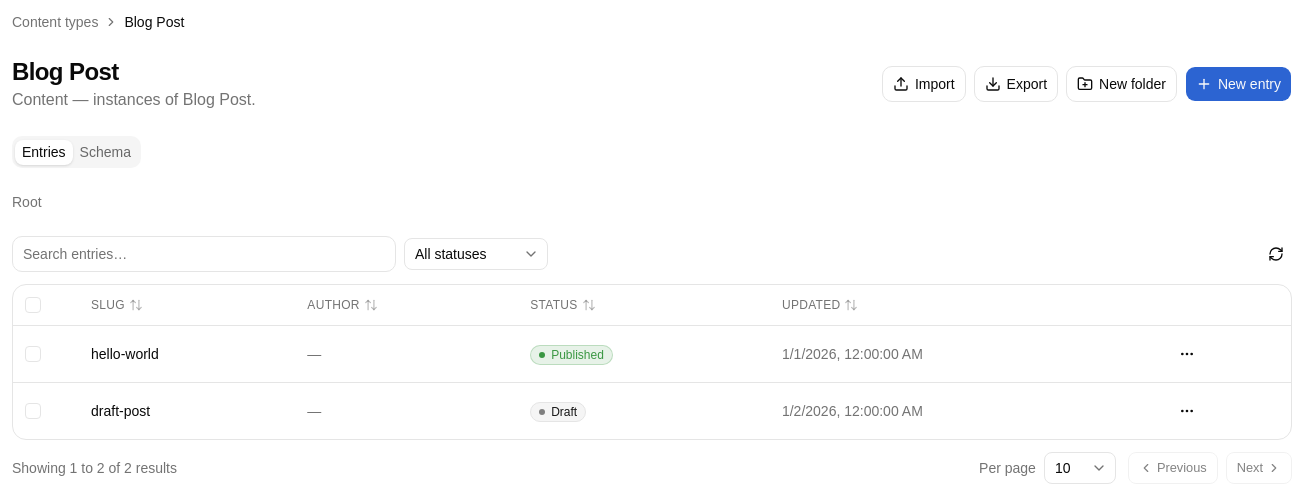
EntriesPage › filters the list by status
Check: the link "hello-world" is shown, box [91, 346, 159, 362]
Check: the link "draft-post" is shown, box [91, 402, 150, 418]
Step 1. Click the dropdown named "Filter by status" → coordinates (476, 254), box [404, 238, 548, 270]
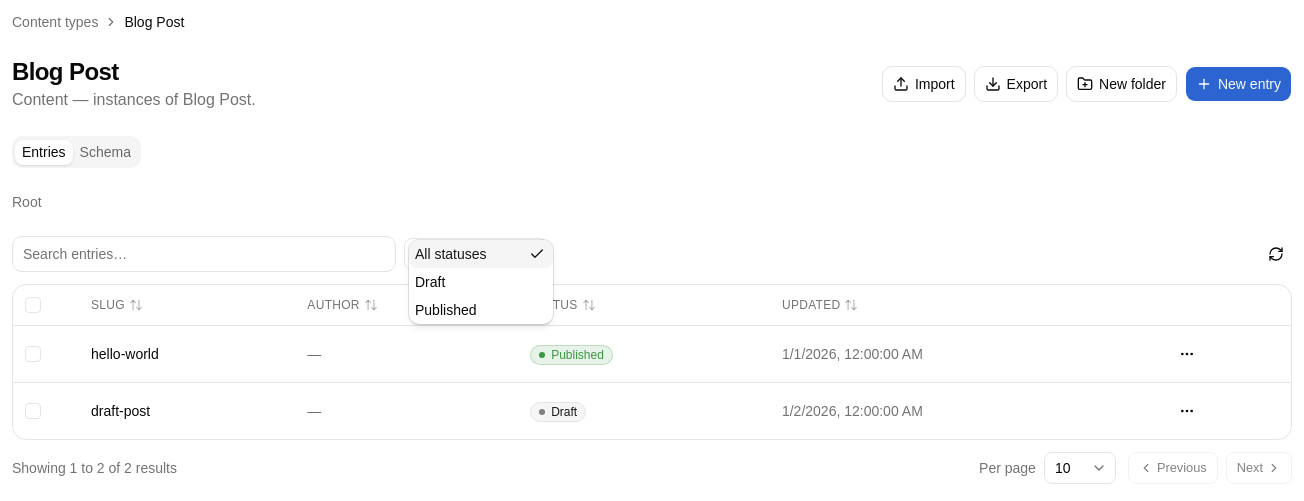
Step 2. Click the option "Published" → coordinates (446, 310), box [415, 302, 476, 318]
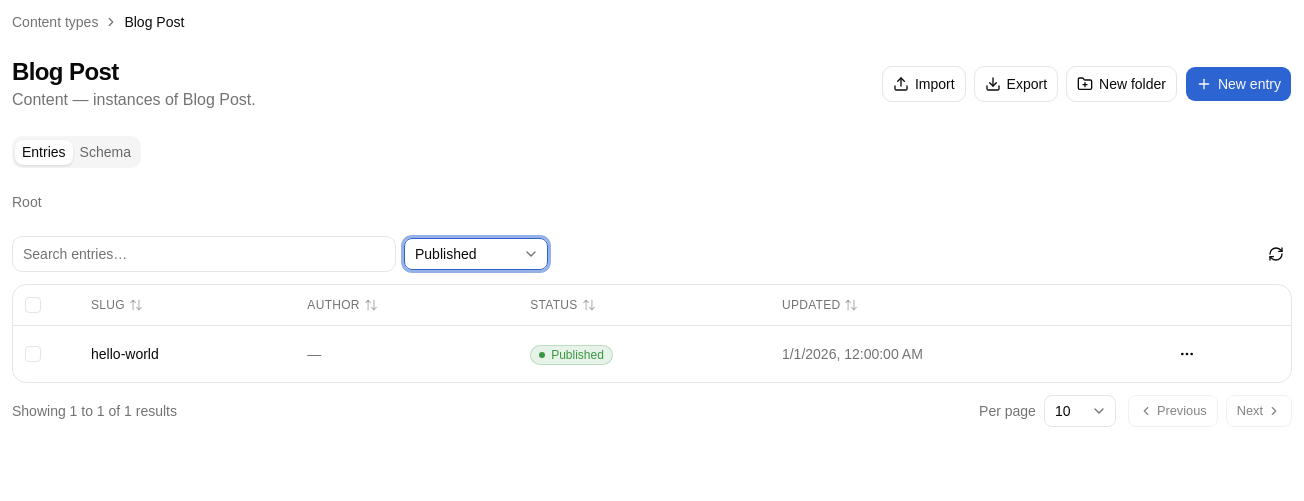
Check: the link "hello-world" is shown, box [91, 346, 159, 362]
Check: the link "draft-post" is gone
